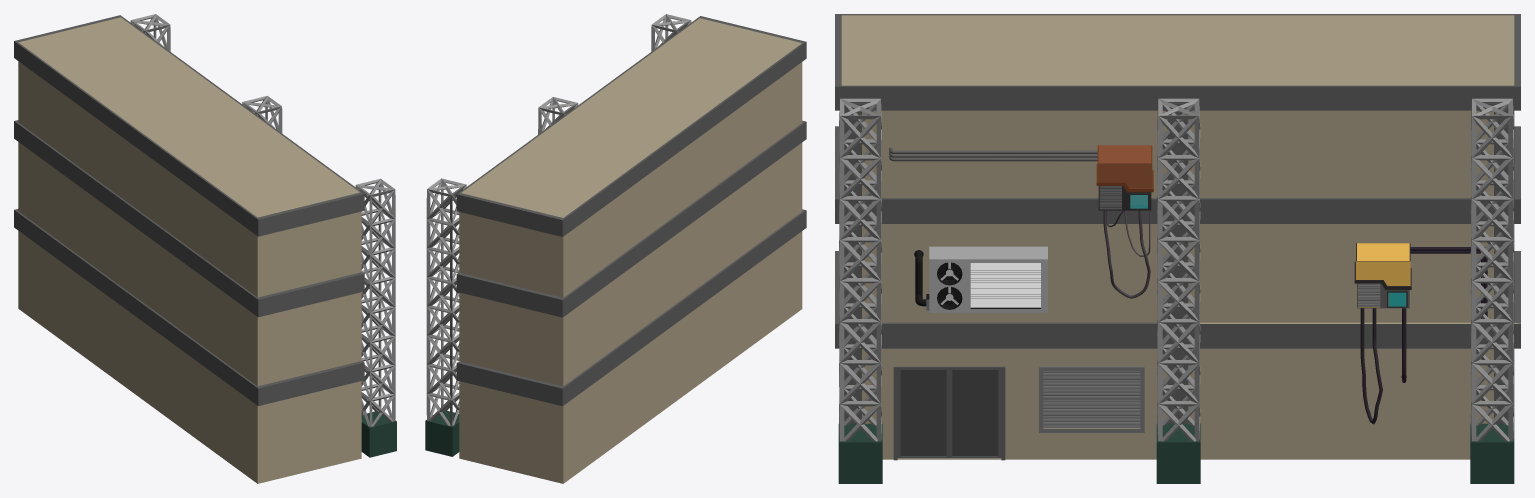
Rendered from PropBuilding_6.fbx.
3 views of the same model, side by side, from view 1: azimuth 30°, elevation 25°; view 2: azimuth 150°, elevation 25°; view 3: azimuth 270°, elevation 25° (orthographic). The views are drawn at different scales.
Parts seen in each view (by area): view 1: PropBulding6_Body, Scaffold_1, Scaffold_Base_1, Scaffold_3, Scaffold_2; view 2: PropBulding6_Body, Scaffold_3, Scaffold_Base_3, Scaffold_1, Scaffold_2; view 3: PropBulding6_Body, Scaffold_2, Scaffold_3, Scaffold_1, PropBulding6_Door, AC MODEL.013, Shutters, Generator_1, Generator_2, Scaffold_Base_1, Scaffold_Base_3, Scaffold_Base_2 (+4 smaller).
Part boxes in pixels (left/top/right/bottom): PropBulding6_Body: left=14, top=15, right=364, bottom=483; Scaffold_1: left=355, top=178, right=395, bottom=427; Scaffold_Base_1: left=361, top=411, right=396, bottom=457; Scaffold_3: left=130, top=14, right=170, bottom=51; Scaffold_2: left=242, top=96, right=282, bottom=133; PropBulding6_Body: left=456, top=16, right=806, bottom=483; Scaffold_3: left=426, top=178, right=466, bottom=426; Scaffold_Base_3: left=425, top=410, right=459, bottom=456; Scaffold_1: left=651, top=14, right=691, bottom=51; Scaffold_2: left=538, top=97, right=578, bottom=134; PropBulding6_Body: left=835, top=14, right=1520, bottom=460; Scaffold_2: left=1157, top=98, right=1200, bottom=441; Scaffold_3: left=1470, top=98, right=1513, bottom=441; Scaffold_1: left=839, top=98, right=881, bottom=441; PropBulding6_Door: left=897, top=370, right=1001, bottom=458; AC MODEL.013: left=914, top=246, right=1047, bottom=312; Shutters: left=1043, top=371, right=1140, bottom=428; Generator_1: left=1096, top=145, right=1153, bottom=210; Generator_2: left=1354, top=243, right=1411, bottom=308; Scaffold_Base_1: left=838, top=423, right=882, bottom=483; Scaffold_Base_3: left=1470, top=423, right=1514, bottom=483; Scaffold_Base_2: left=1156, top=423, right=1200, bottom=483.
Size of the model in its own units: 1204 by 2192 by 3642.
24 materials, 24 textured.
